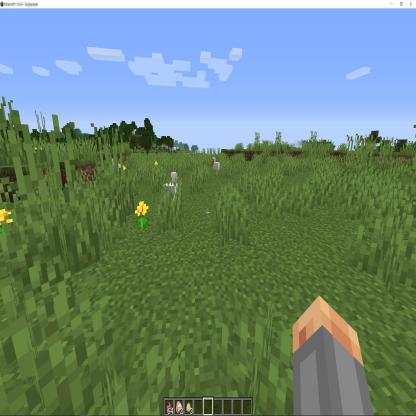minecraft-pigs: (163, 169, 180, 208), (210, 153, 221, 179)
